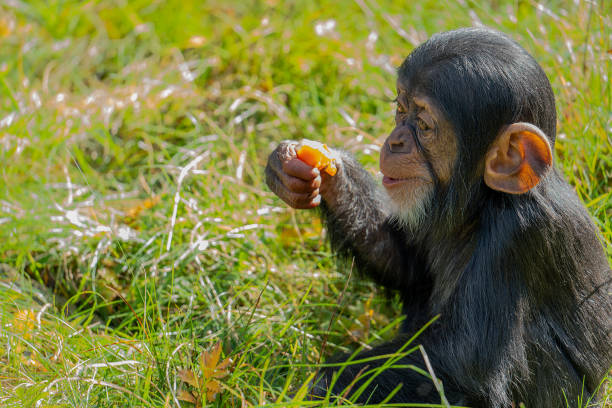chimpanzee: (369, 24, 580, 262)
